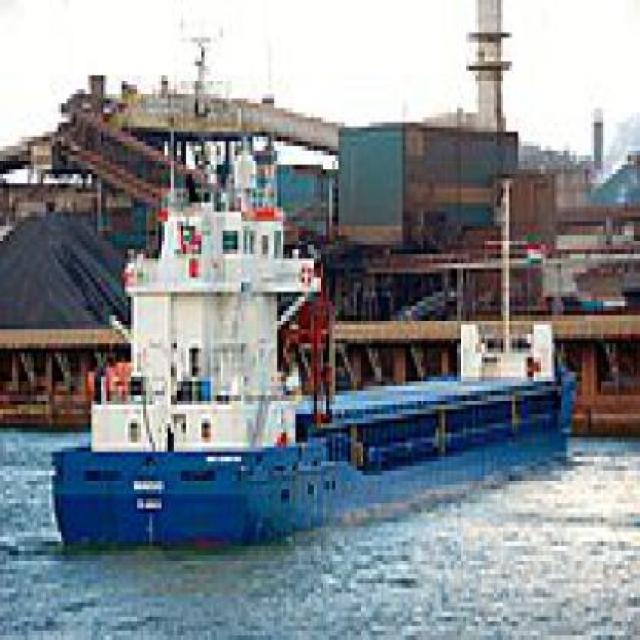container: (34, 189, 583, 561)
